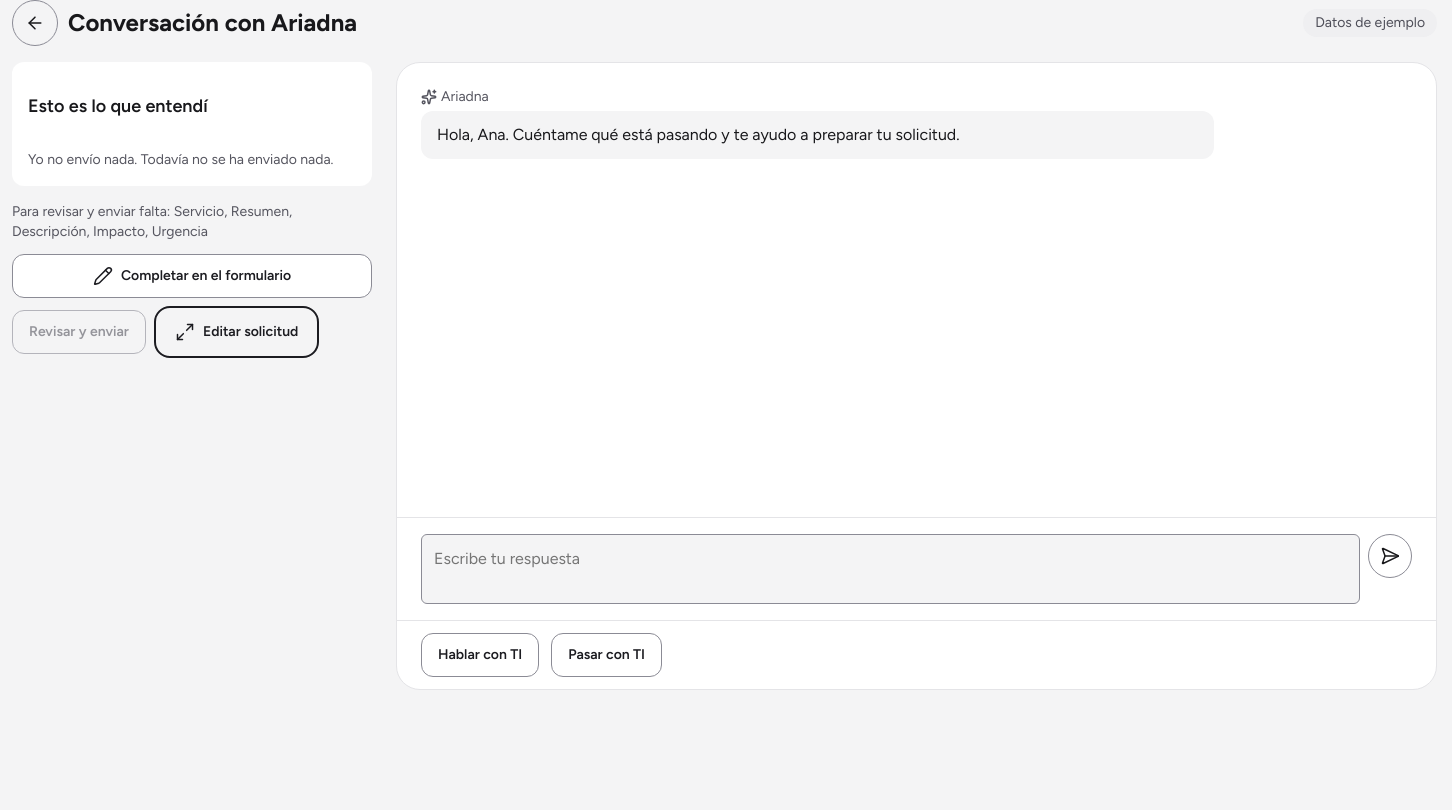
it: ConversationContainer (U6) › the same toggle also closes the form (disclosure) and keeps focus on itself
Click the button "Editar solicitud" at (237, 332), box [158,310,315,354]
(page scrolled)
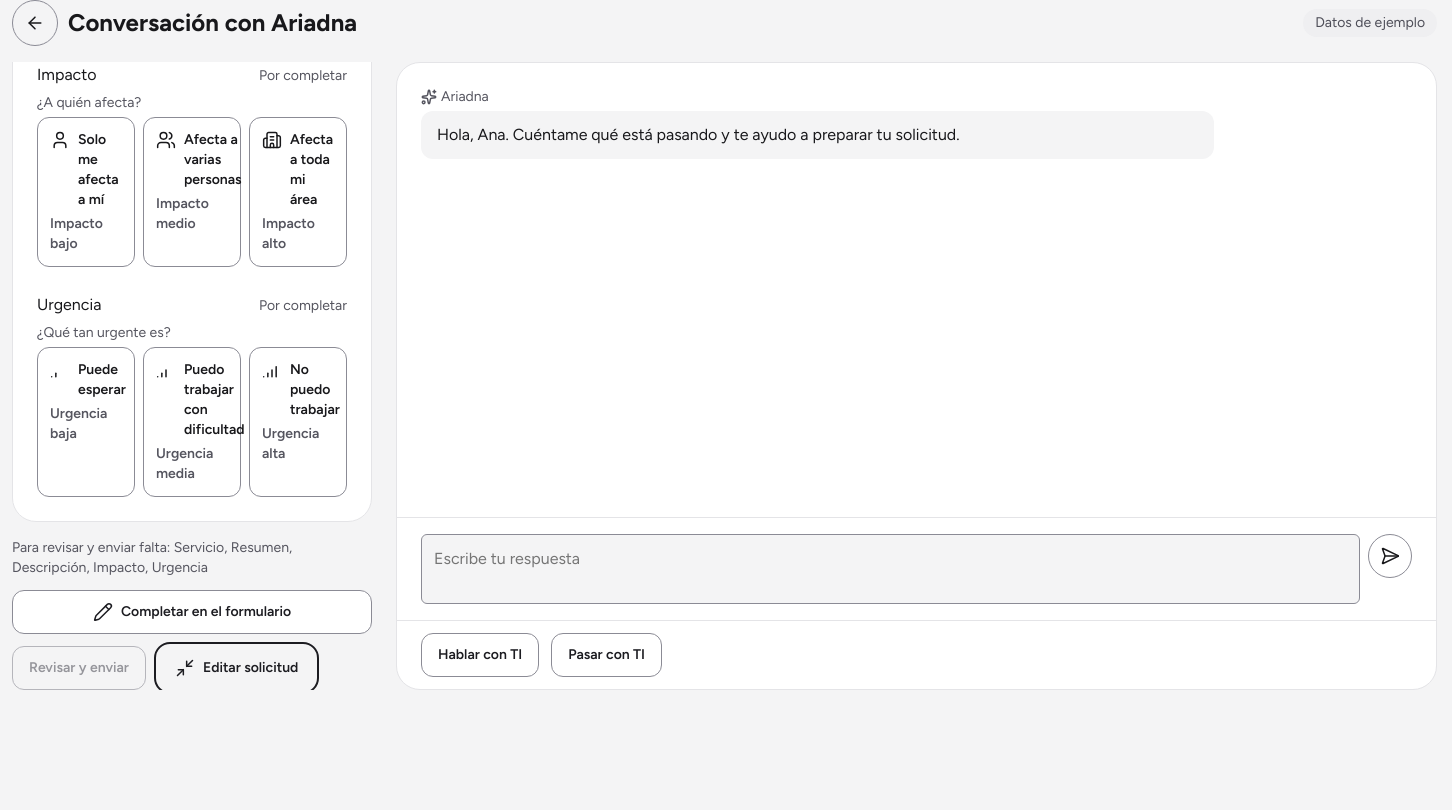
Click the button "Editar solicitud" at (237, 668), box [158,646,315,690]
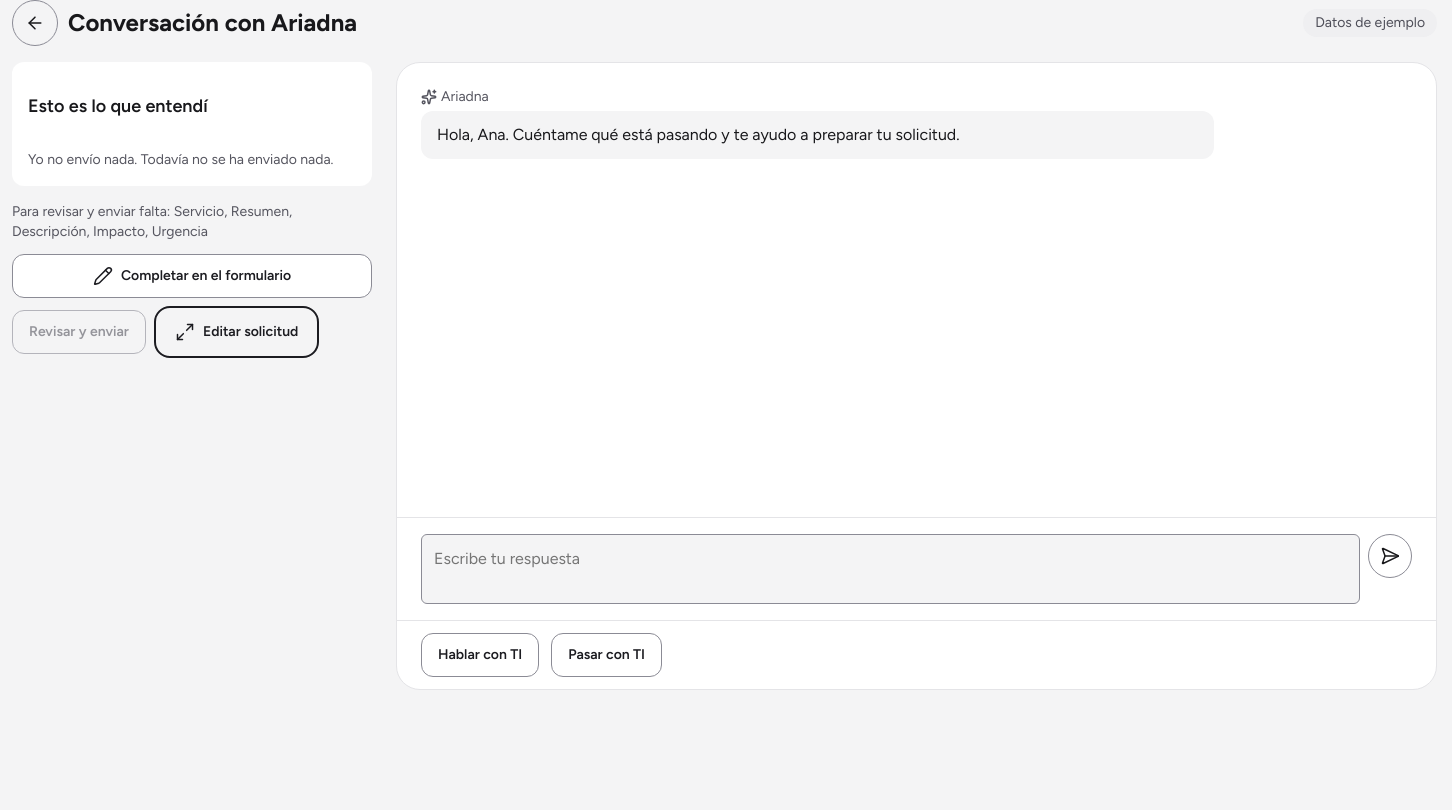
expect the button "Editar solicitud" is collapsed: met, box [158,310,315,354]
